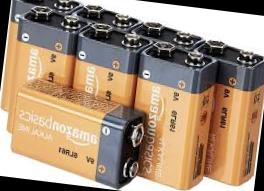battery: (3, 76, 160, 191), (120, 38, 226, 191), (173, 35, 264, 191), (0, 7, 84, 140), (67, 17, 152, 117)
